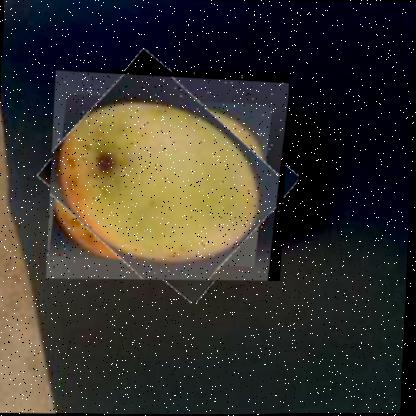mango: (47, 68, 291, 282)
